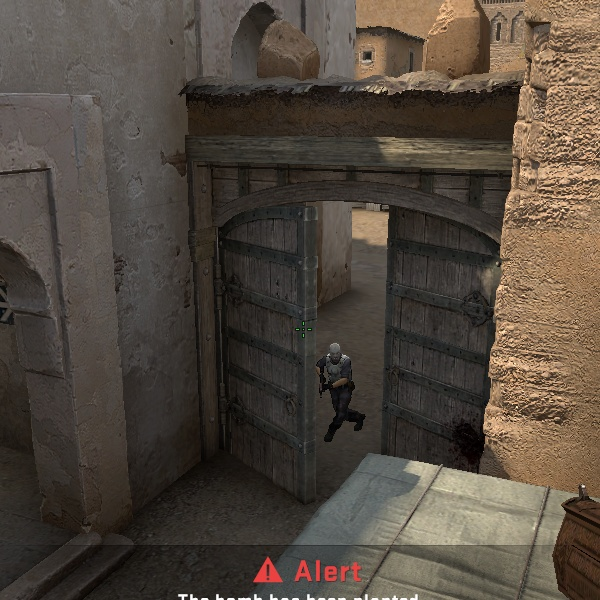t_body: (318, 340, 371, 438)
t_head: (324, 341, 349, 365)
